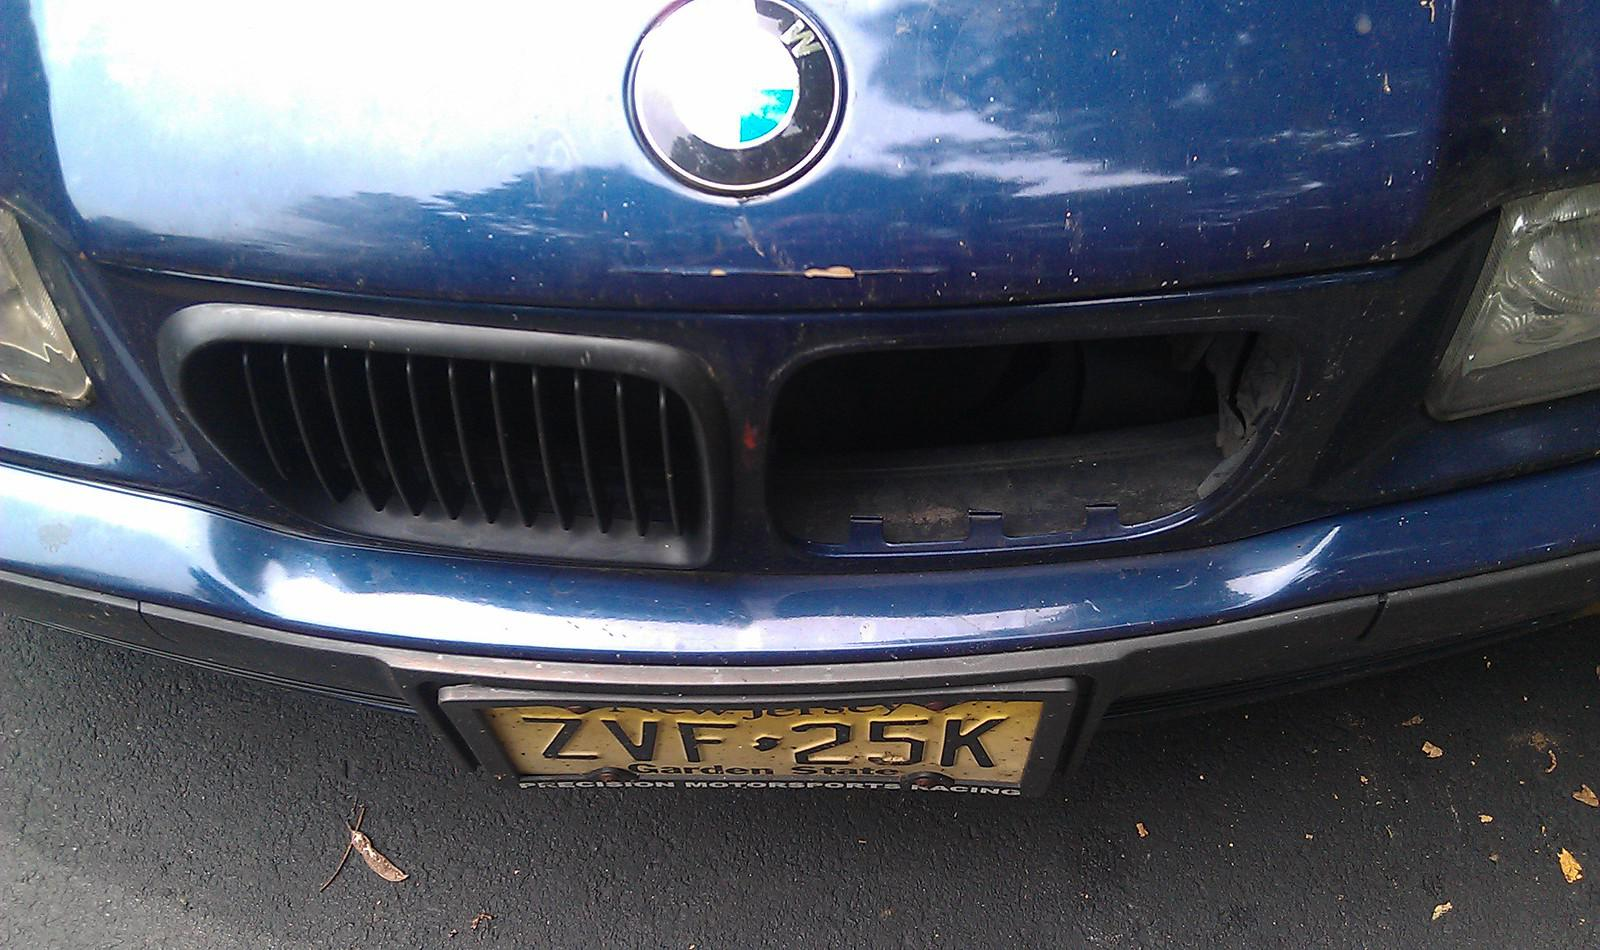bonnet-dent: (43, 0, 1448, 332)
